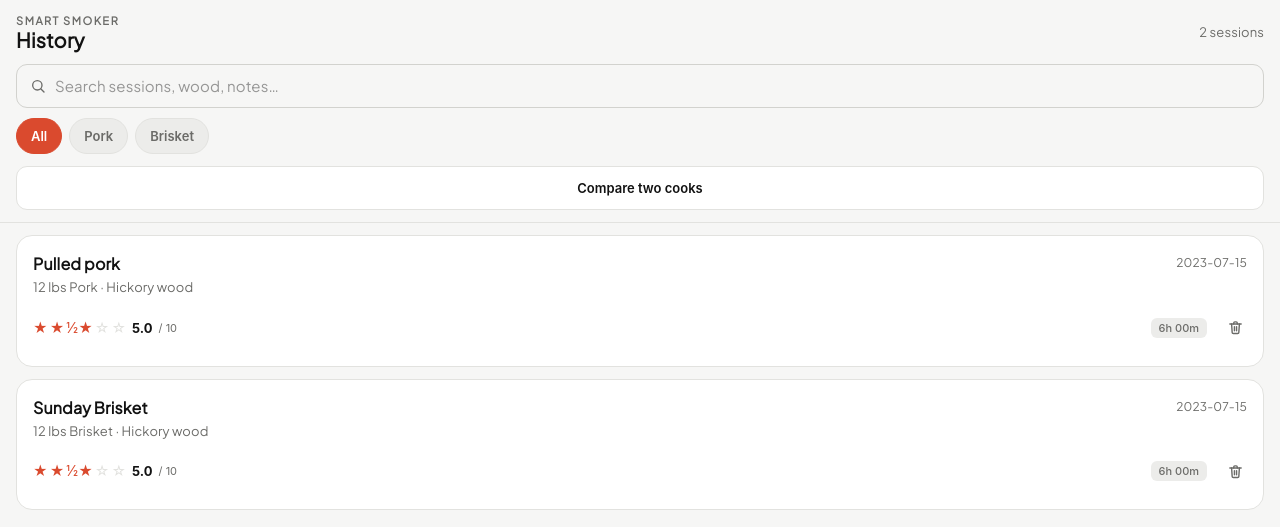
Test case: History › searching narrows the list and the count, and clearing the search restores both
Expected: the heading "Sunday Brisket" is shown, top-left (33, 397), bottom-right (148, 418)
Type "pork" into the search field named "Search smoke history" at (656, 86), box top-left (55, 71), bottom-right (1257, 102)
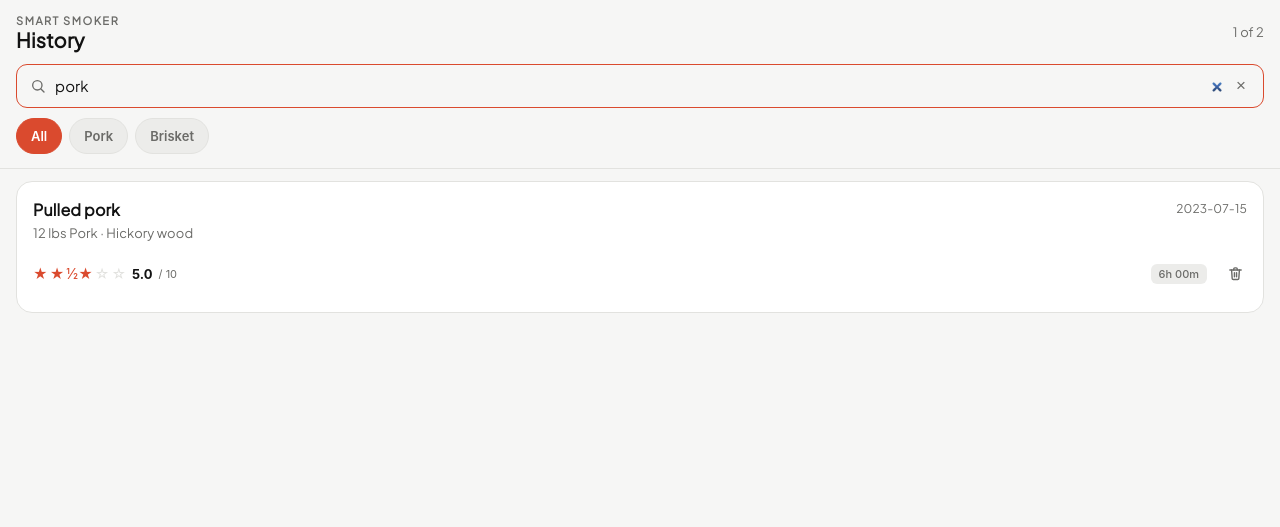
Expected: the heading "Pulled pork" is shown, top-left (33, 199), bottom-right (120, 220)
Now the heading "Sunday Brisket" is gone
Now the text with test id "history-count" reads "1 of 2", box top-left (1233, 24), bottom-right (1264, 40)
Click the button named "Clear search" at (1241, 86), box top-left (1225, 70), bottom-right (1257, 102)
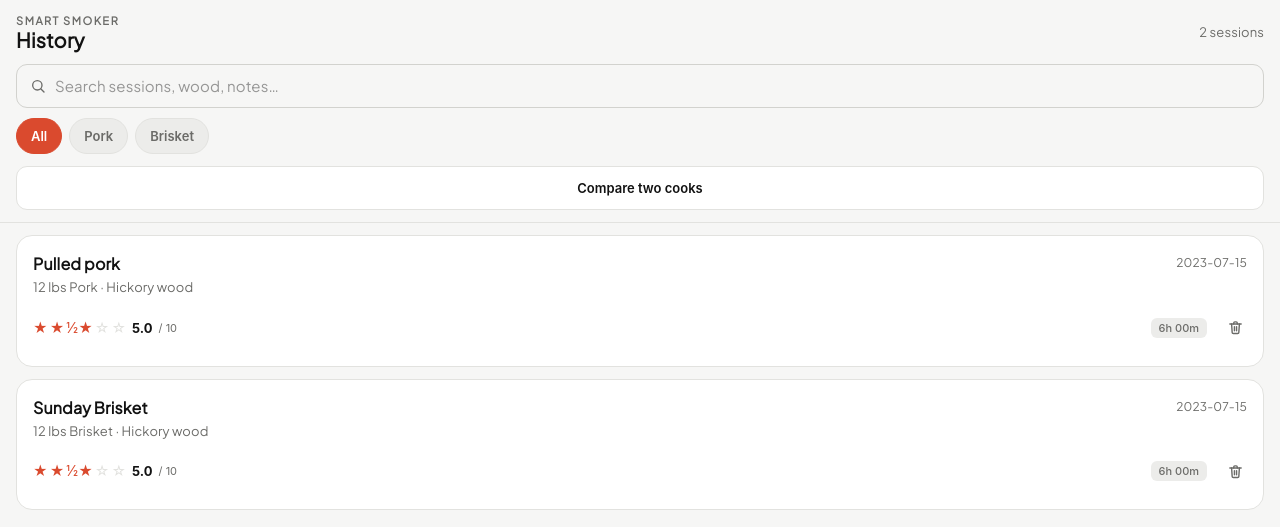
Now the heading "Sunday Brisket" is shown, box top-left (33, 397), bottom-right (148, 418)
Now the text with test id "history-count" reads "2 sessions", box top-left (1199, 24), bottom-right (1264, 40)
